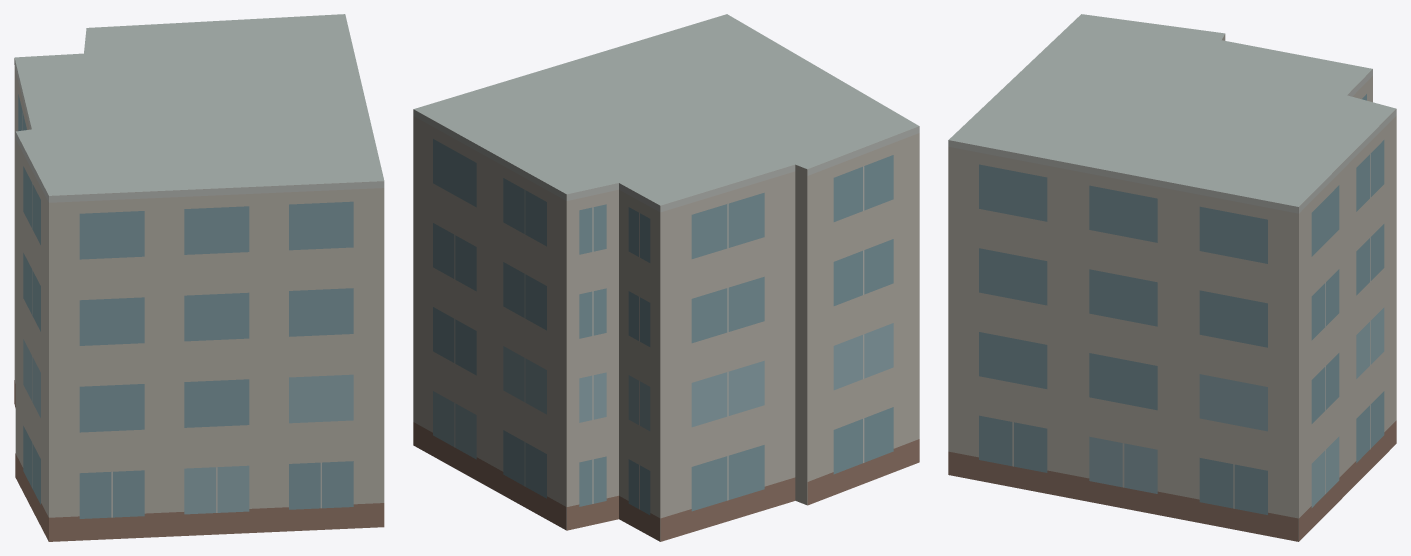
The model's file is survey-upis-32651818.glb.
3 renders of one model, left to right at view 1: azimuth 30°, elevation 25°; view 2: azimuth 150°, elevation 25°; view 3: azimuth 270°, elevation 25°, orthographic. The views are drawn at different scales.
Parts seen in each view (by area): view 1: survey-upis-32651818.tmp; view 2: survey-upis-32651818.tmp; view 3: survey-upis-32651818.tmp.
Boxes of the visible parts, x1,y1,x2,y2 form: survey-upis-32651818.tmp: [14, 14, 384, 541]; survey-upis-32651818.tmp: [413, 14, 919, 541]; survey-upis-32651818.tmp: [948, 14, 1396, 541].
Size of the model in its own units: 15.09 by 12.2 by 14.81.
